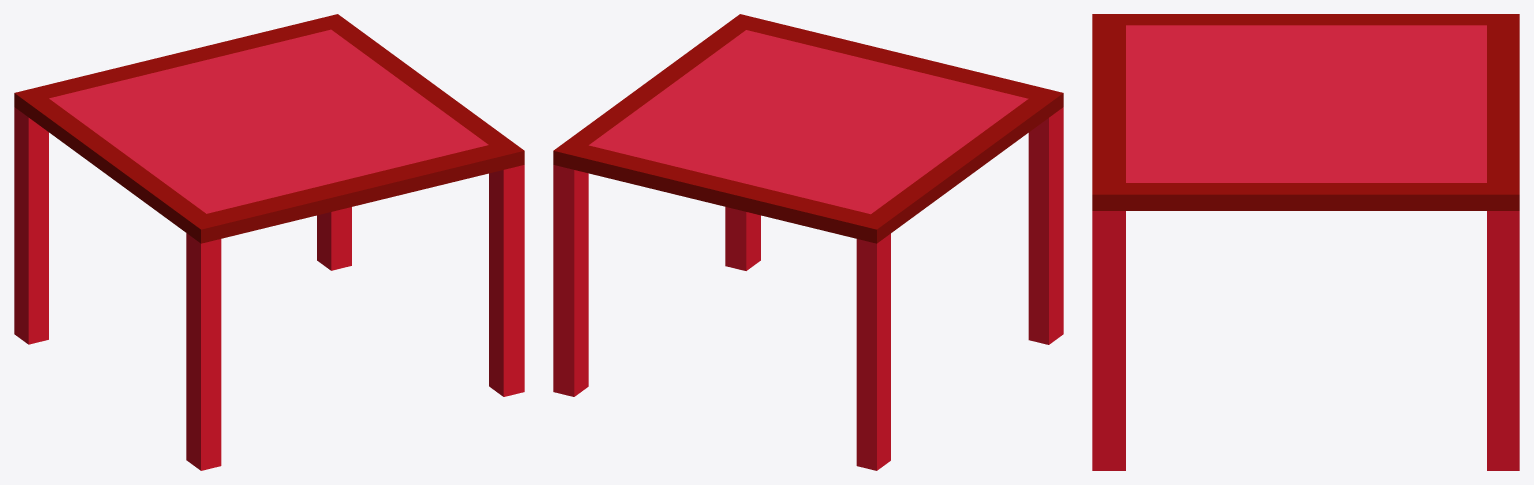
File: table.fbx
The picture shows the model from 3 angles, left to right: view 1: azimuth 30°, elevation 25°; view 2: azimuth 150°, elevation 25°; view 3: azimuth 270°, elevation 25°; orthographic projection. The views are drawn at different scales.
Parts seen in each view (by area): view 1: Cube; view 2: Cube; view 3: Cube.
Boxes of the visible parts, bbox=[...] form: Cube: bbox=[14, 14, 524, 470]; Cube: bbox=[553, 14, 1063, 470]; Cube: bbox=[1092, 14, 1519, 470].
Size of the model in its own units: 200 by 143 by 200.
